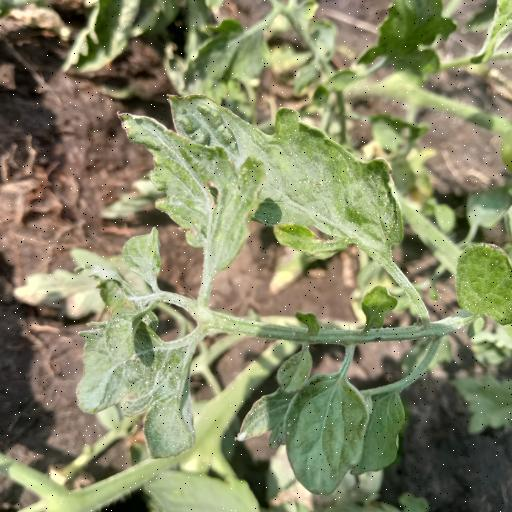Tomato_Brown_Spots: (148, 88, 414, 268), (63, 279, 207, 468)
